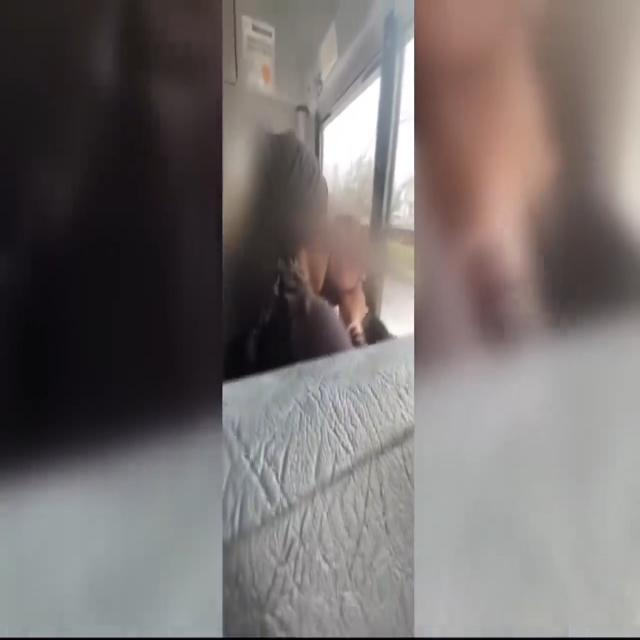fight: (214, 43, 400, 400)
